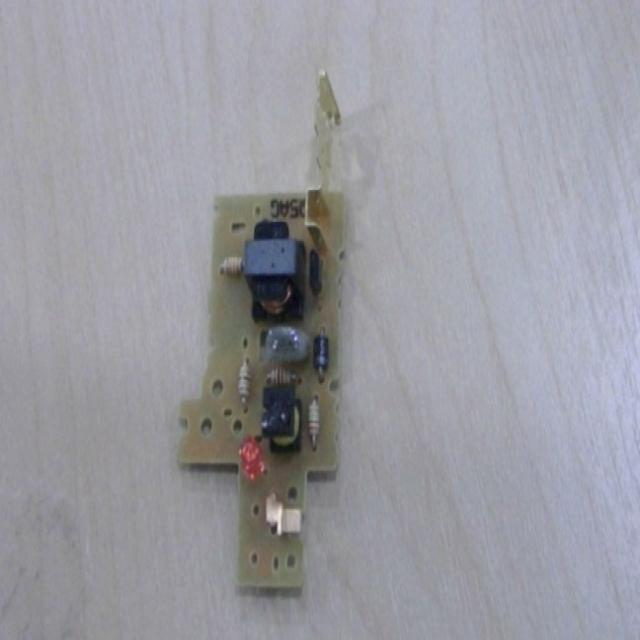019: (261, 387, 303, 455)
223: (264, 325, 310, 363)
DIODE: (312, 327, 330, 386)
LED: (238, 437, 264, 488)
R1: (237, 355, 253, 413)
R2: (263, 364, 300, 389)
R3: (306, 391, 323, 455)
R4: (220, 255, 246, 279)
TCE: (245, 220, 306, 320)
TRANSISTOR: (309, 246, 325, 308)
